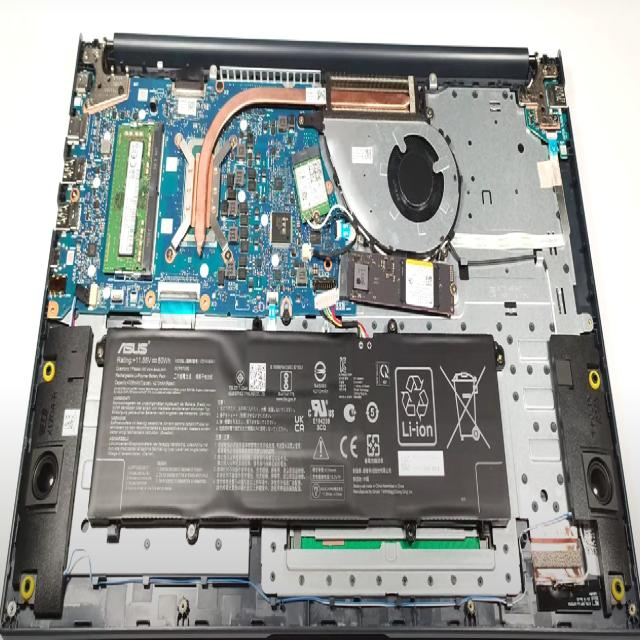battery: (100, 324, 510, 523)
innerscrew: (404, 522, 417, 544), (188, 527, 195, 547), (388, 319, 398, 331)
ram: (103, 124, 153, 278)
ssd: (341, 246, 452, 318)
wifi: (288, 144, 333, 220)
